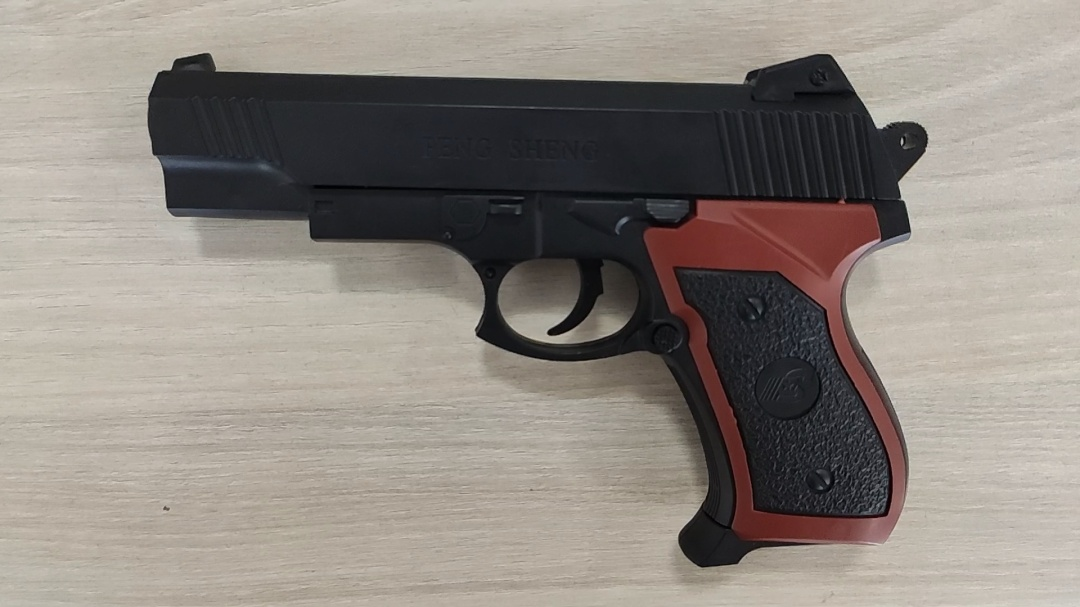gun: (147, 54, 928, 568)
